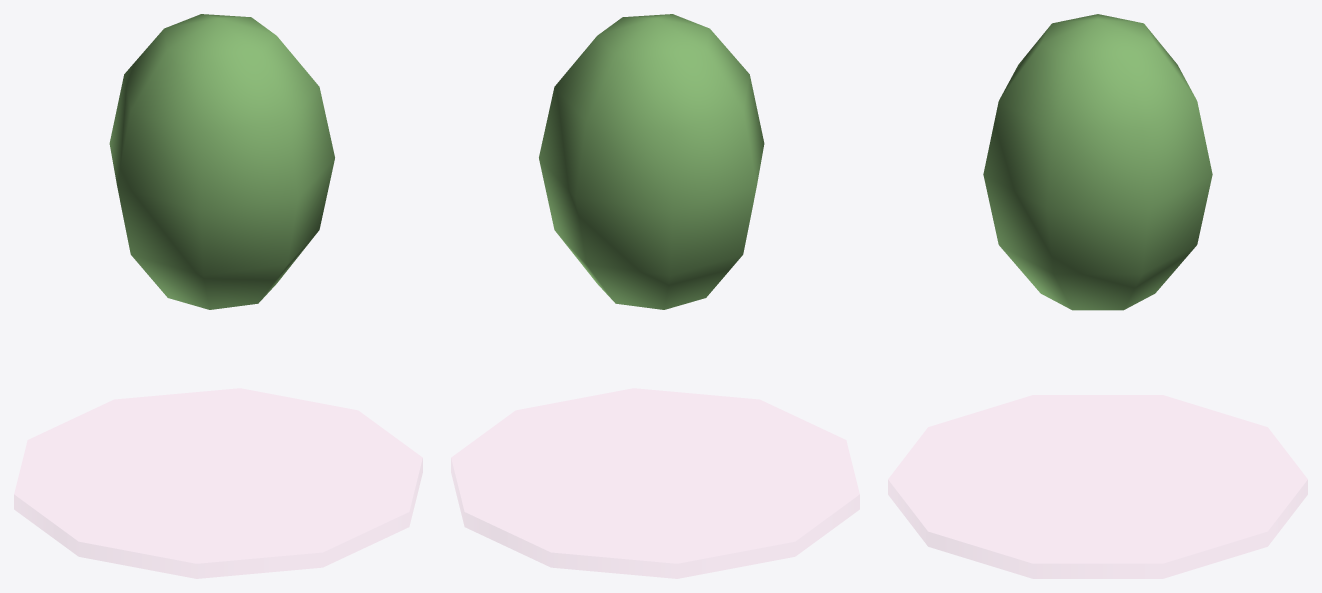
Rendered from avocado.glb.
3 renders of one model, left to right at view 1: azimuth 30°, elevation 25°; view 2: azimuth 150°, elevation 25°; view 3: azimuth 270°, elevation 25°, orthographic.
Size of the model in its own units: 0.9511 by 1.25 by 1.
